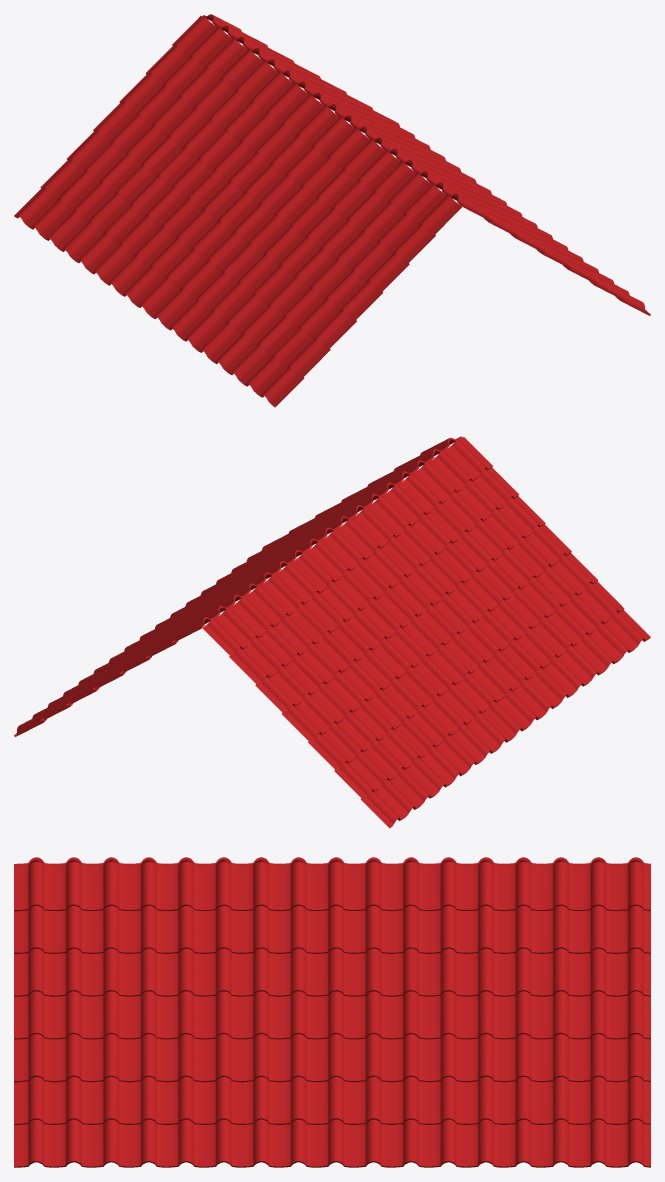
File: runoprofil2.glb
3 views of the same model, one above another, from view 1: azimuth 30°, elevation 25°; view 2: azimuth 150°, elevation 25°; view 3: azimuth 270°, elevation 25° (orthographic). The views are drawn at different scales.
Visible parts, largest first — view 1: runoprofil; view 2: runoprofil; view 3: runoprofil.
Boxes of the visible parts, <box> form: runoprofil: <box>14,14,650,407</box>; runoprofil: <box>14,436,650,828</box>; runoprofil: <box>14,857,650,1167</box>.
Size of the model in its own units: 16.19 by 6.54 by 19.24.
